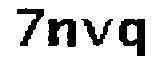7: (12, 3, 46, 50)
n: (46, 17, 79, 50)
q: (119, 16, 151, 59)
v: (78, 13, 114, 48)
